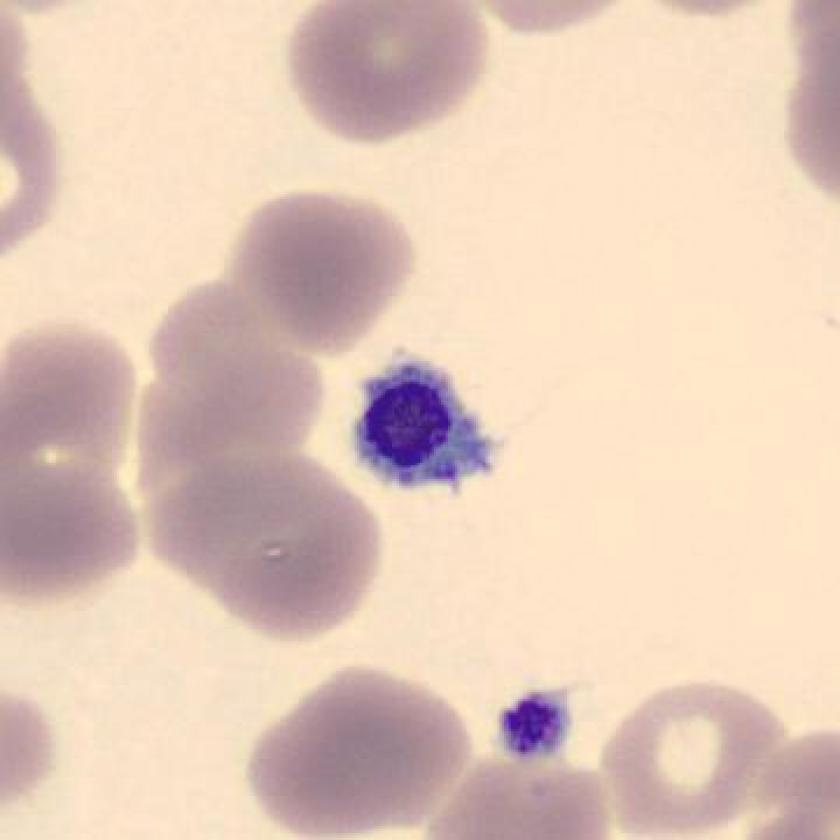platelets: (347, 337, 522, 503), (489, 674, 587, 767)
